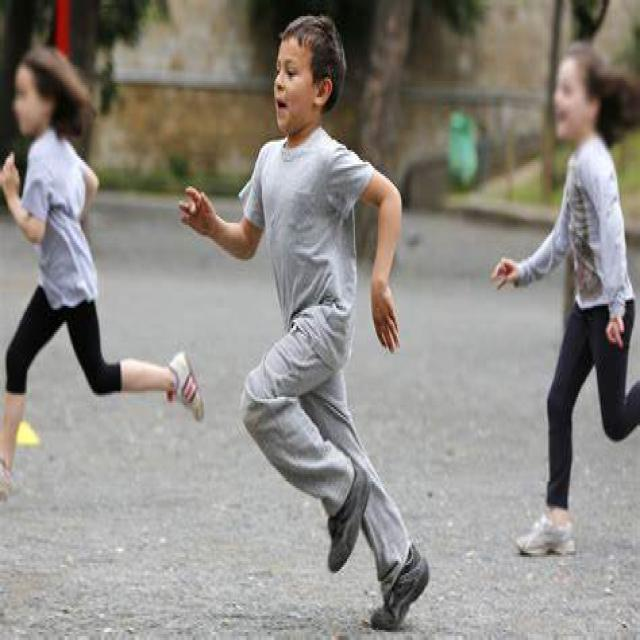stand: (242, 25, 394, 572), (515, 31, 640, 550), (7, 41, 107, 448)
